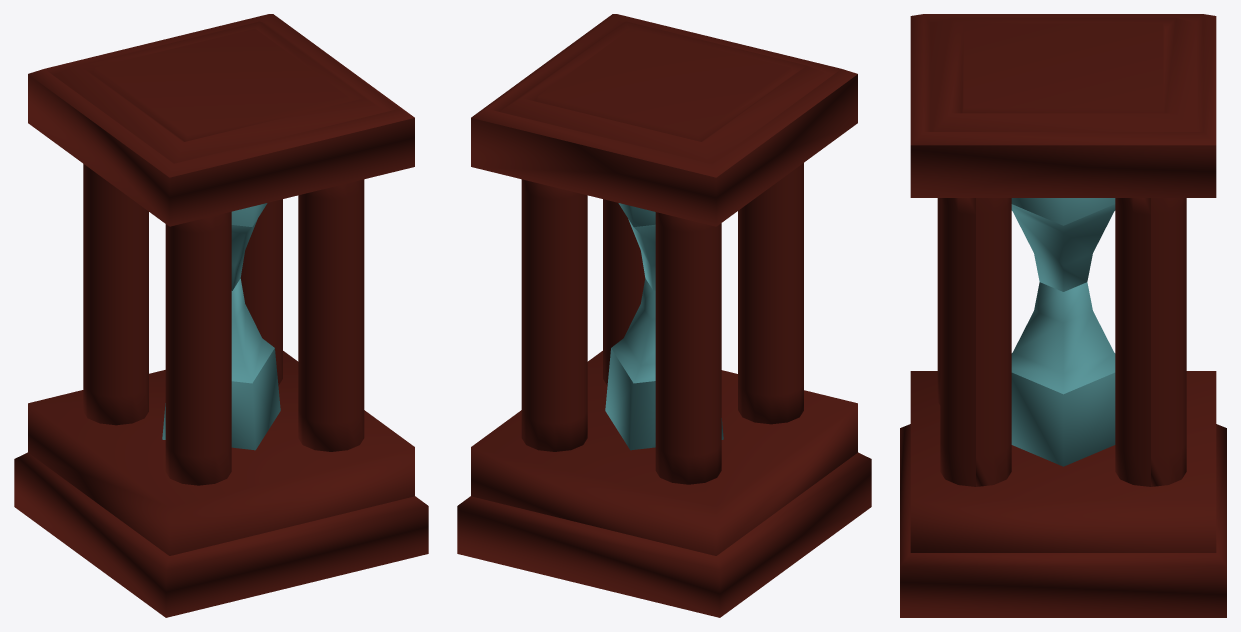
Rendered from hour_glass.fbx.
3 renders of one model, left to right at view 1: azimuth 30°, elevation 25°; view 2: azimuth 150°, elevation 25°; view 3: azimuth 270°, elevation 25°, orthographic. The views are drawn at different scales.
Parts seen in each view (by area): view 1: mesh01, mesh04, mesh05, mesh08, mesh06, glass_bott, mesh07, glass_top; view 2: mesh01, mesh04, mesh06, mesh07, mesh05, glass_bott, mesh08, glass_top; view 3: mesh04, mesh01, mesh07, mesh08, glass_bott, glass_top, mesh05.
Part boxes in pixels (x1,y1,x2,y2): mesh01: (14, 351, 428, 617); mesh04: (28, 14, 414, 226); mesh05: (165, 211, 231, 485); mesh08: (298, 179, 364, 451); mesh06: (83, 164, 148, 425); glass_bott: (162, 278, 280, 450); mesh07: (240, 199, 282, 385); glass_top: (231, 203, 267, 290); mesh01: (457, 351, 871, 617); mesh04: (471, 14, 857, 226); mesh06: (655, 212, 721, 484); mesh07: (521, 179, 587, 451); mesh05: (738, 163, 803, 424); glass_bott: (605, 278, 723, 450); mesh08: (603, 199, 645, 385); glass_top: (618, 203, 655, 290); mesh04: (910, 14, 1216, 197); mesh01: (900, 371, 1226, 617); mesh07: (1115, 198, 1186, 486); mesh08: (940, 198, 1011, 486); glass_bott: (1011, 282, 1115, 466); glass_top: (1011, 198, 1115, 291); mesh05: (937, 198, 940, 405).
Bounding box in the file's own units: 19.78 × 32.26 × 19.78.
